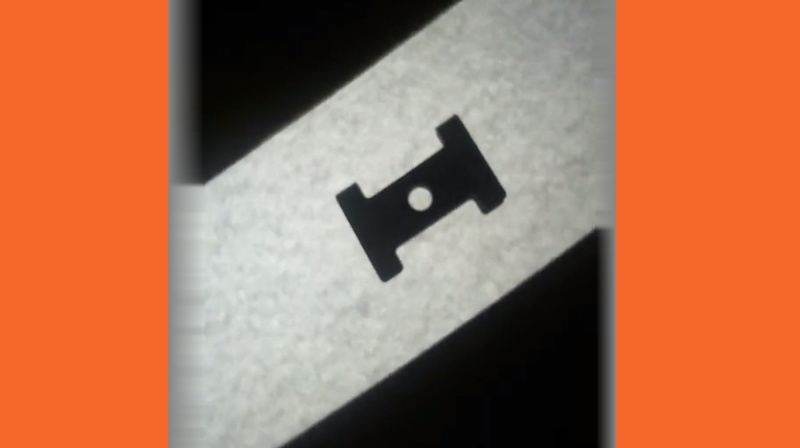O002: (331, 110, 507, 287)
